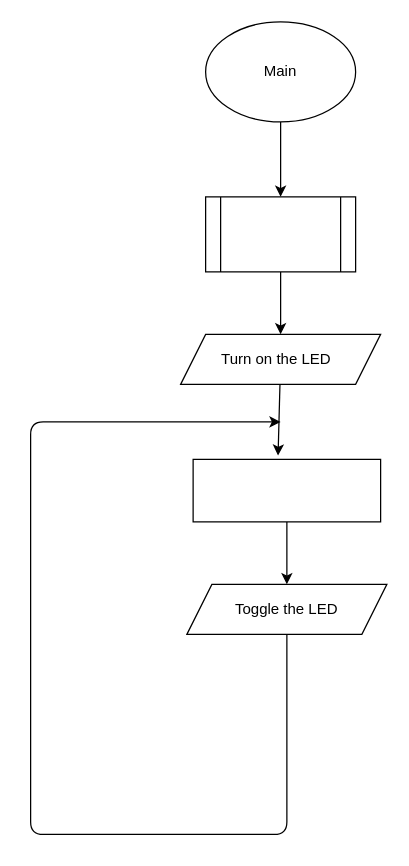
The diagram is 409 pixels wide and 866 high, and some of its shapes have lost their labels. The centre of each missing label's shape, as x and y in pixels:
"Flash every 1 second" belongs at point 286,490.
"PinMux" belongs at point 280,234.
